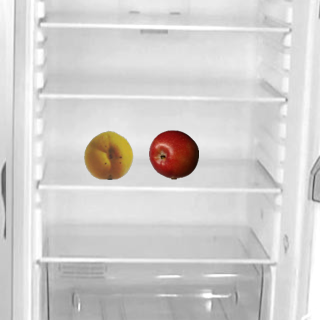Apple Braeburn: (148, 129, 198, 179)
Peach 2: (83, 129, 133, 179)
